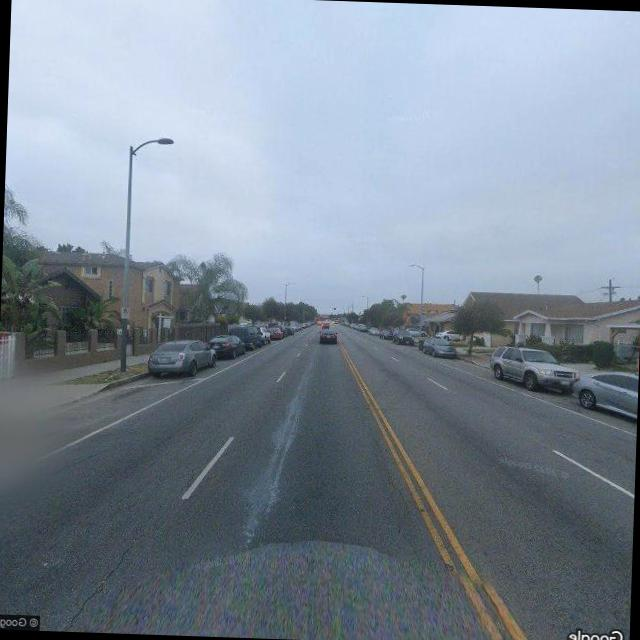pothole: (55, 528, 146, 633)
